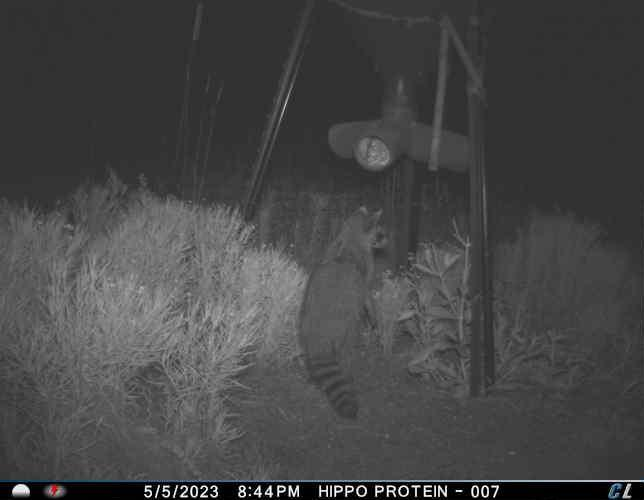Raccoon: (299, 205, 393, 420)
